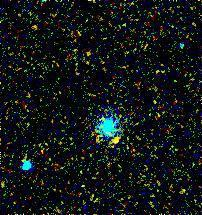star: (101, 125, 131, 155)
